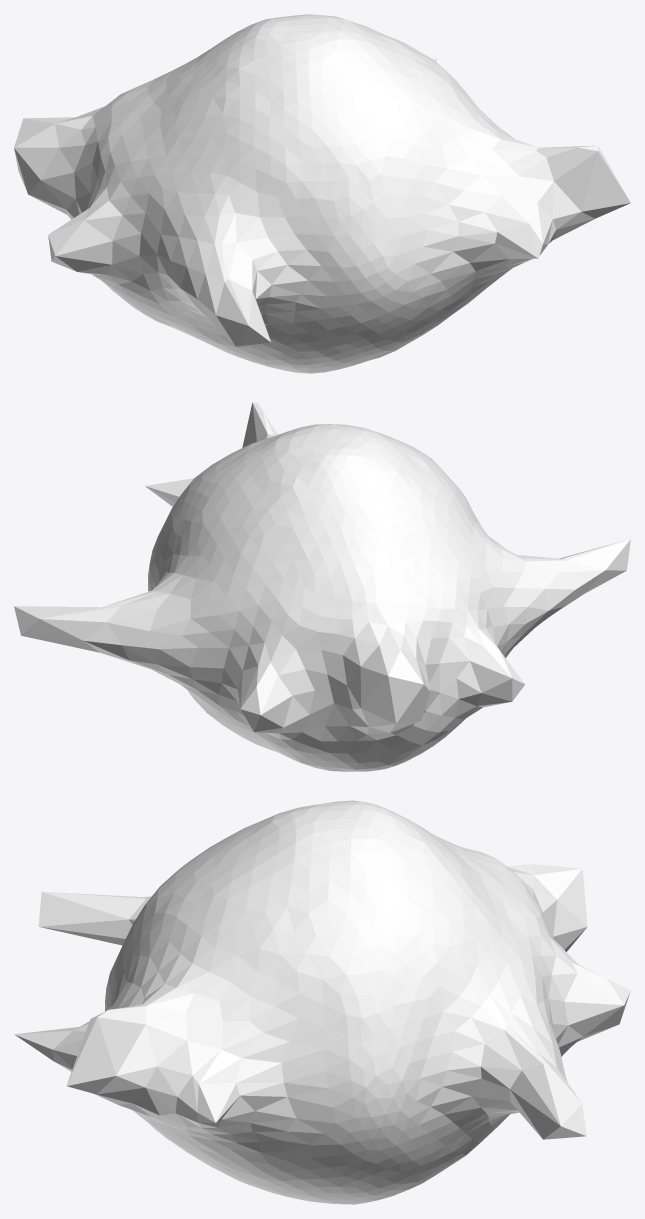
File: plane_rotZ45[0.3,0.0,0.3]s1[-1.7,0.0,-1.7]_00050.obj
3 renders of one model, top to bottom at view 1: azimuth 30°, elevation 25°; view 2: azimuth 150°, elevation 25°; view 3: azimuth 270°, elevation 25°, orthographic. The views are drawn at different scales.
Size of the model in its own units: 1.1 by 0.73 by 1.1.
1 material, 1 textured.
